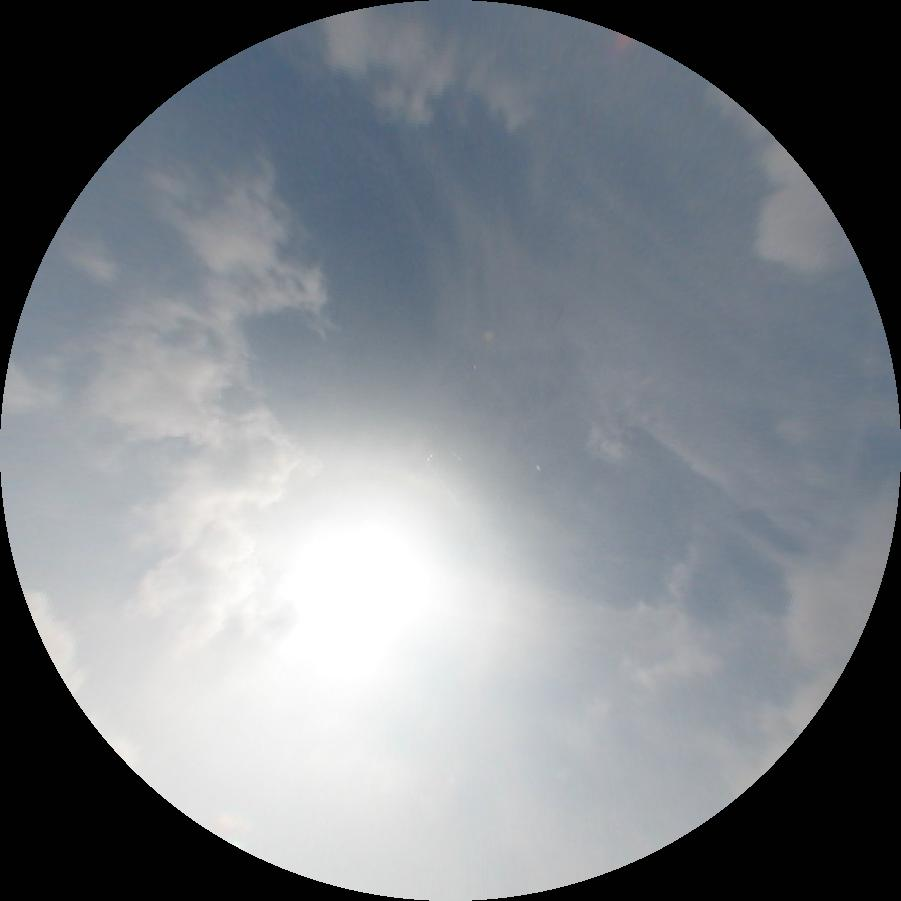contrail young: (428, 464, 457, 504)
sun: (294, 529, 427, 672)
